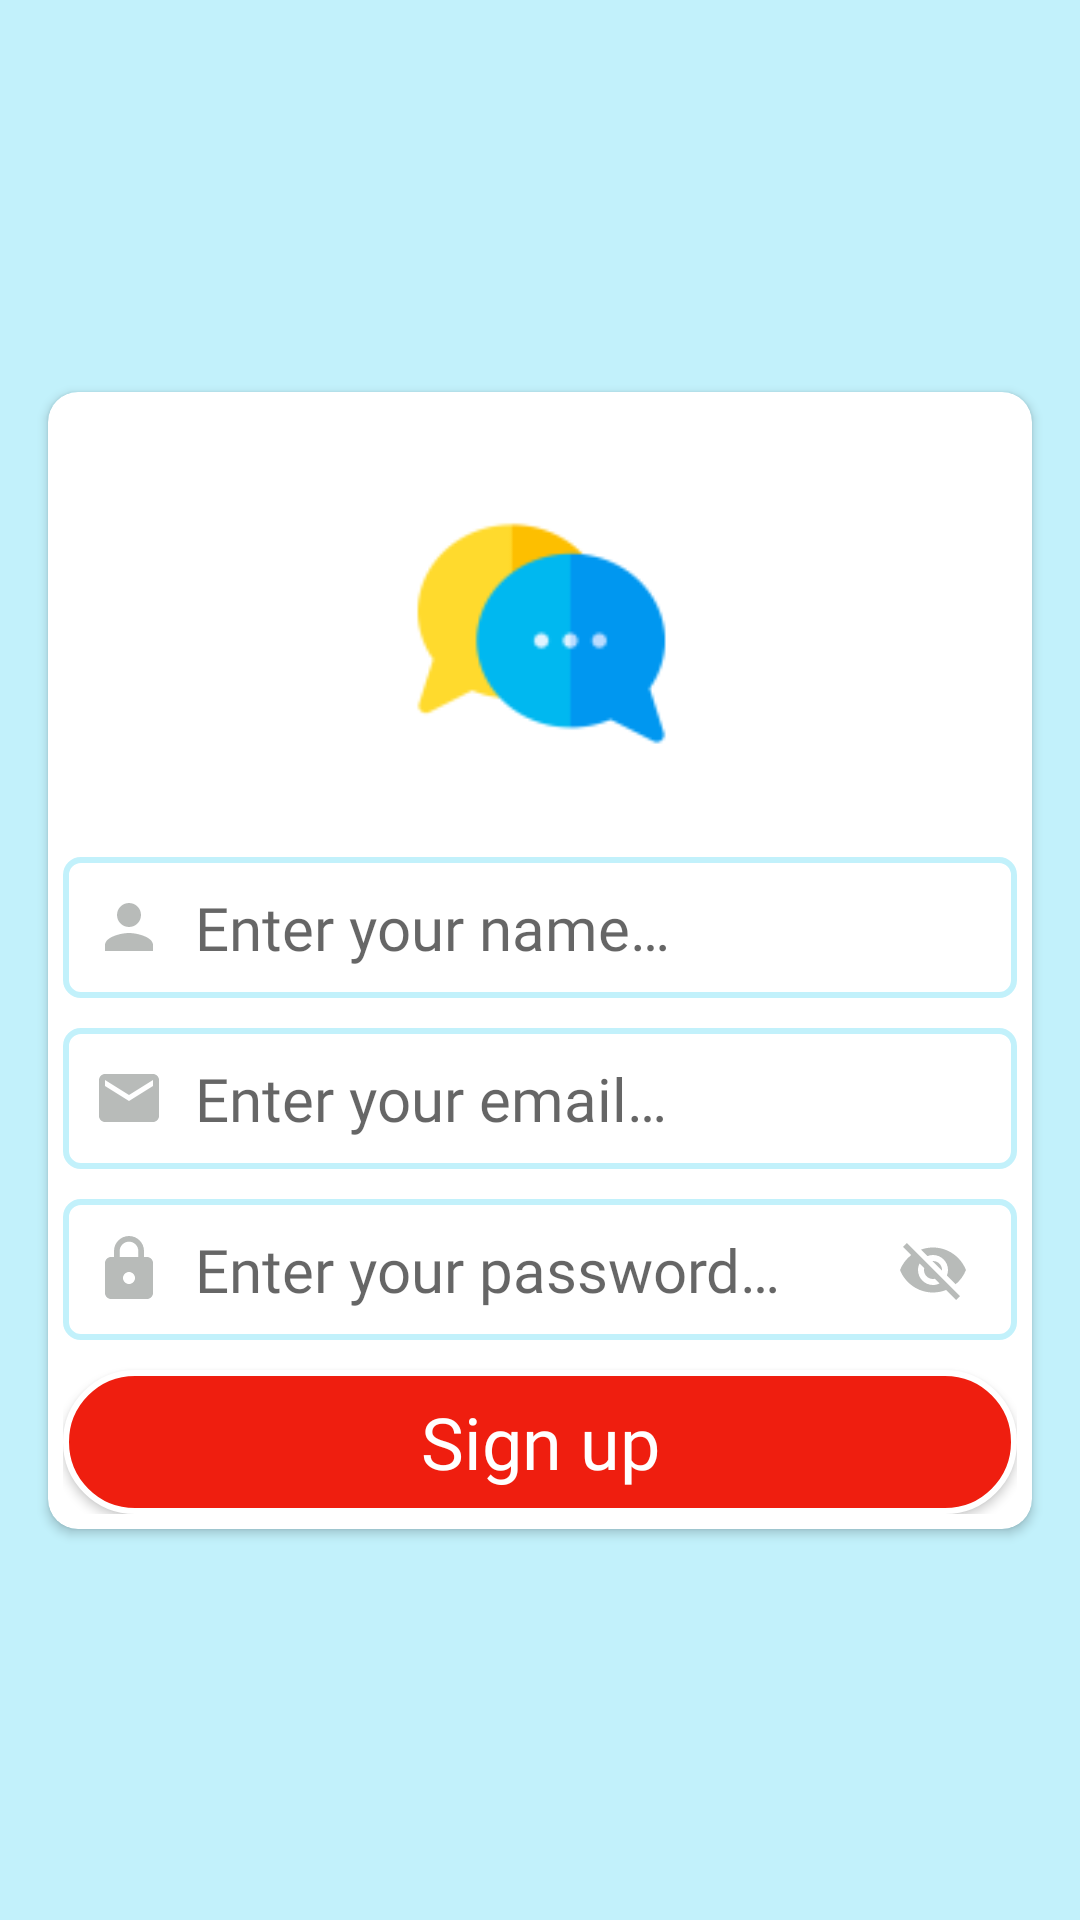

Locate icon controls on the screen. Image size 1080w x 1920h, boxes as (x1, y1, x2, y2).
visibility off: (900, 1243, 966, 1300)
